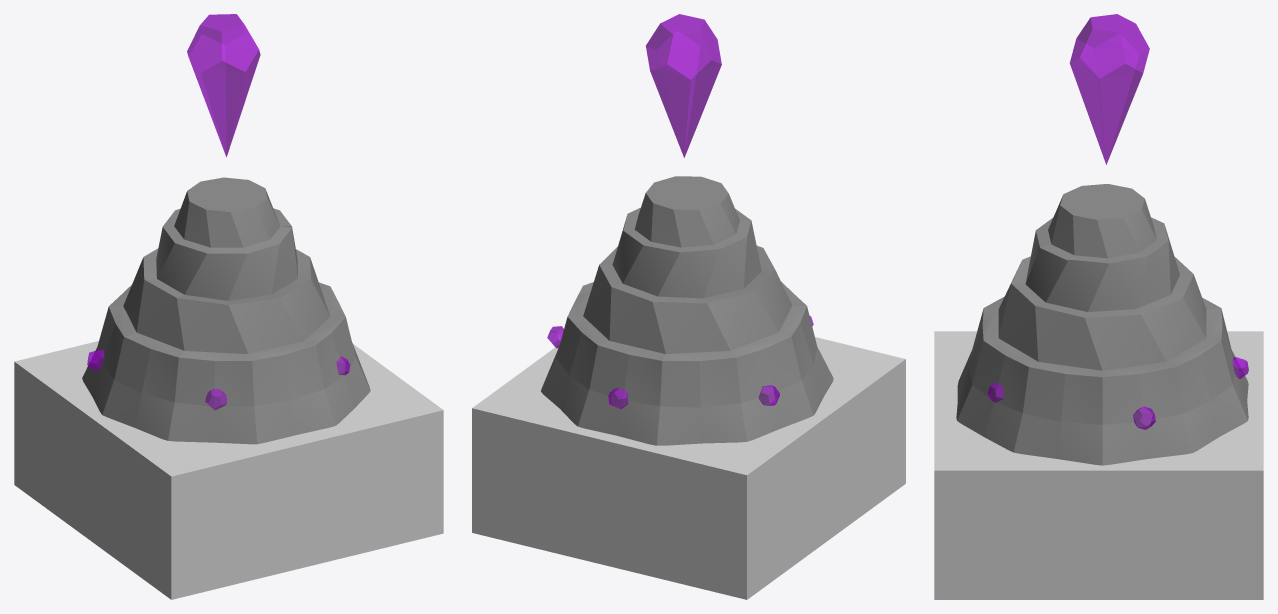
Rendered from MagicTowerLvl1.fbx.
3 views of the same model, side by side, from view 1: azimuth 30°, elevation 25°; view 2: azimuth 150°, elevation 25°; view 3: azimuth 270°, elevation 25° (orthographic). The views are drawn at different scales.
Visible parts, largest first — view 1: MagicTowerLvl1BaseStructure, ShootingGem; view 2: MagicTowerLvl1BaseStructure, ShootingGem; view 3: MagicTowerLvl1BaseStructure, ShootingGem.
Part boxes in pixels (x1=…): MagicTowerLvl1BaseStructure: x1=14, y1=177, x2=443, y2=599; ShootingGem: x1=187, y1=14, x2=260, y2=157; MagicTowerLvl1BaseStructure: x1=472, y1=176, x2=905, y2=599; ShootingGem: x1=646, y1=14, x2=721, y2=157; MagicTowerLvl1BaseStructure: x1=934, y1=184, x2=1263, y2=599; ShootingGem: x1=1069, y1=14, x2=1149, y2=164.
Bounding box in the file's own units: 4 × 6.8 × 4.
